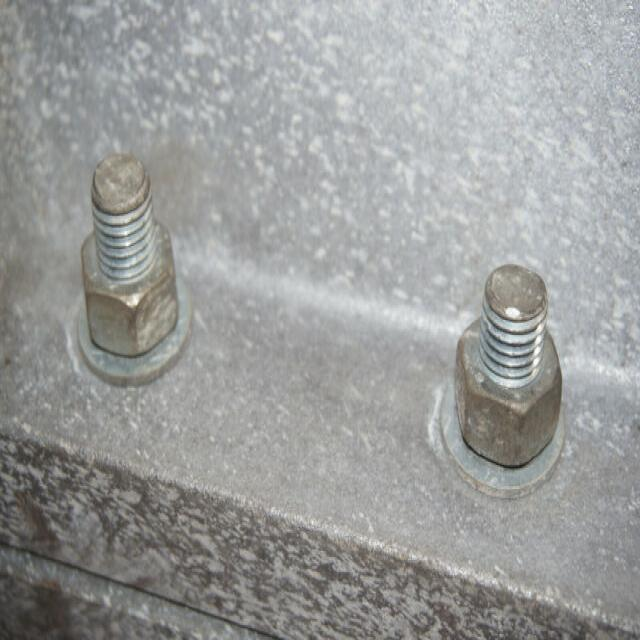bolt nut: (452, 302, 563, 471), (79, 207, 180, 361)
